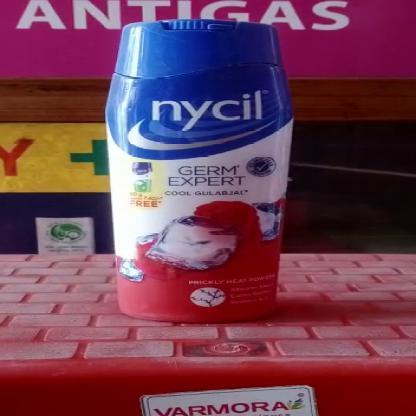Nycil Prickly Heat Powder: (102, 18, 302, 326)
